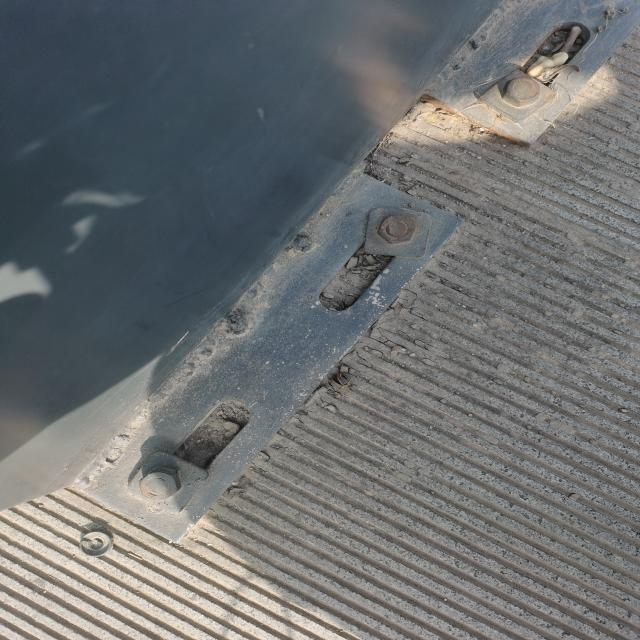Regular bolt: (140, 470, 182, 502)
Rusty bolt: (379, 215, 417, 245)
